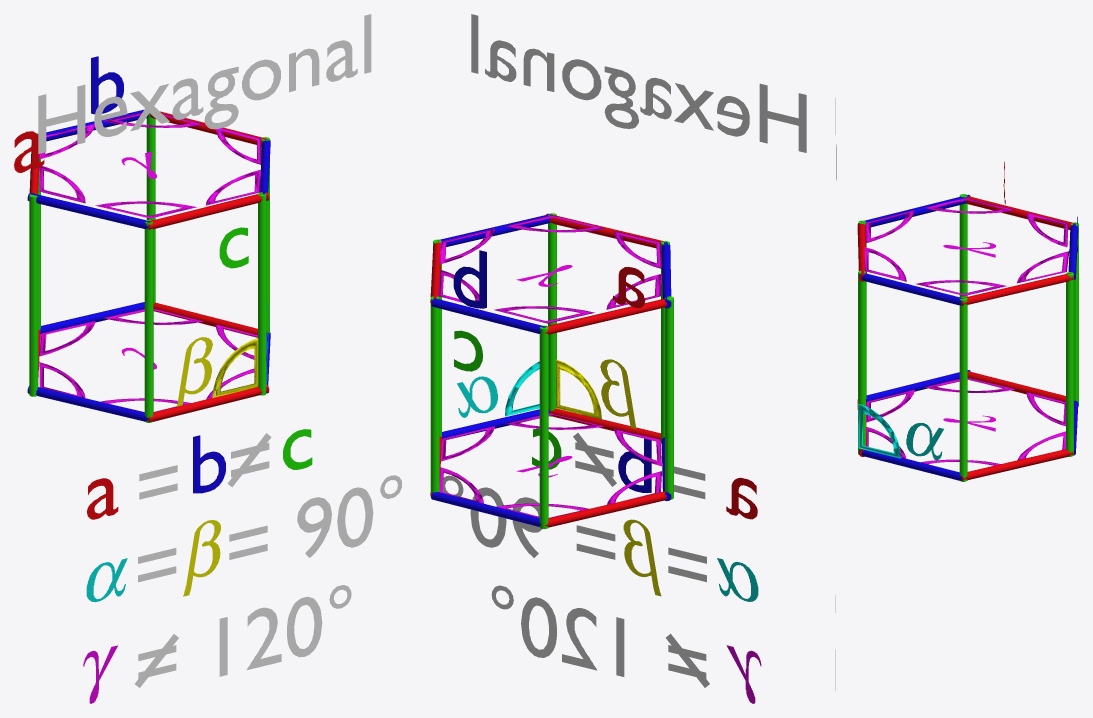
The model's file is hexagonal.glb.
The picture shows the model from 3 angles, left to right: view 1: azimuth 30°, elevation 25°; view 2: azimuth 150°, elevation 25°; view 3: azimuth 270°, elevation 25°; orthographic projection. The views are drawn at different scales.
Visible parts, largest first — view 1: Text.135_Text.120, Text.119_Text.131, Text.118_Text.130, Cylinder.110_Cylinder.466, Cylinder.113_Cylinder.469, Cylinder.112_Cylinder.468, Cylinder.102_Cylinder.458, Cylinder.101_Cylinder.457, Cylinder.107_Cylinder.463, Cylinder.108_Cylinder.464, Cylinder.114_Cylinder.470, Text.109_Text.114 (+11 smaller); view 2: Text.135_Text.120, Text.119_Text.131, Text.118_Text.130, Cylinder.109_Cylinder.465, Cylinder.114_Cylinder.470, Cylinder.110_Cylinder.466, Cylinder.112_Cylinder.468, Cylinder.104_Cylinder.460, Cylinder.098_Cylinder.454, Cylinder.097_Cylinder.453, Cylinder.103_Cylinder.459, Text.124_Text.135 (+16 smaller); view 3: Cylinder.111_Cylinder.467, Cylinder.114_Cylinder.470, Cylinder.112_Cylinder.468, Cylinder.106_Cylinder.462, Cylinder.100_Cylinder.456, Cylinder.099_Cylinder.455, Cylinder.105_Cylinder.461, Cylinder.110_Cylinder.466, Sphere.235_Sphere.339, Cylinder.109_Cylinder.465, Cylinder.098_Cylinder.454, Cylinder.104_Cylinder.460 (+13 smaller).
Part boxes in pixels (left/top/right/bottom): Text.135_Text.120: left=38, top=14, right=371, bottom=153; Text.119_Text.131: left=138, top=585, right=351, bottom=679; Text.118_Text.130: left=229, top=475, right=401, bottom=559; Cylinder.110_Cylinder.466: left=29, top=193, right=38, bottom=396; Cylinder.113_Cylinder.469: left=144, top=219, right=153, bottom=422; Cylinder.112_Cylinder.468: left=258, top=192, right=266, bottom=395; Cylinder.102_Cylinder.458: left=148, top=192, right=269, bottom=229; Cylinder.101_Cylinder.457: left=27, top=193, right=150, bottom=228; Cylinder.107_Cylinder.463: left=27, top=386, right=148, bottom=421; Cylinder.108_Cylinder.464: left=148, top=384, right=269, bottom=422; Cylinder.114_Cylinder.470: left=146, top=113, right=155, bottom=303; Text.109_Text.114: left=193, top=435, right=225, bottom=493; Text.135_Text.120: left=471, top=14, right=806, bottom=152; Text.119_Text.131: left=491, top=585, right=706, bottom=679; Text.118_Text.130: left=443, top=475, right=615, bottom=559; Cylinder.109_Cylinder.465: left=539, top=325, right=548, bottom=528; Cylinder.114_Cylinder.470: left=430, top=296, right=439, bottom=498; Cylinder.110_Cylinder.466: left=665, top=296, right=673, bottom=499; Cylinder.112_Cylinder.468: left=548, top=213, right=556, bottom=416; Cylinder.104_Cylinder.460: left=545, top=491, right=666, bottom=527; Cylinder.098_Cylinder.454: left=545, top=299, right=666, bottom=334; Cylinder.097_Cylinder.453: left=431, top=298, right=546, bottom=333; Cylinder.103_Cylinder.459: left=431, top=492, right=540, bottom=526; Text.124_Text.135: left=453, top=250, right=486, bottom=308; Cylinder.111_Cylinder.467: left=959, top=297, right=967, bottom=481; Cylinder.114_Cylinder.470: left=1066, top=272, right=1073, bottom=456; Cylinder.112_Cylinder.468: left=858, top=270, right=865, bottom=454; Cylinder.106_Cylinder.462: left=961, top=449, right=1073, bottom=480; Cylinder.100_Cylinder.456: left=960, top=273, right=1073, bottom=305; Cylinder.099_Cylinder.455: left=859, top=273, right=963, bottom=305; Cylinder.105_Cylinder.461: left=859, top=450, right=961, bottom=480; Cylinder.110_Cylinder.466: left=959, top=194, right=967, bottom=297; Sphere.235_Sphere.339: left=858, top=404, right=900, bottom=458; Cylinder.109_Cylinder.465: left=1071, top=222, right=1078, bottom=406; Cylinder.098_Cylinder.454: left=966, top=196, right=1075, bottom=229; Cylinder.104_Cylinder.460: left=967, top=371, right=1065, bottom=401.
Size of the model in its own units: 1.54 by 2.52 by 0.978.
